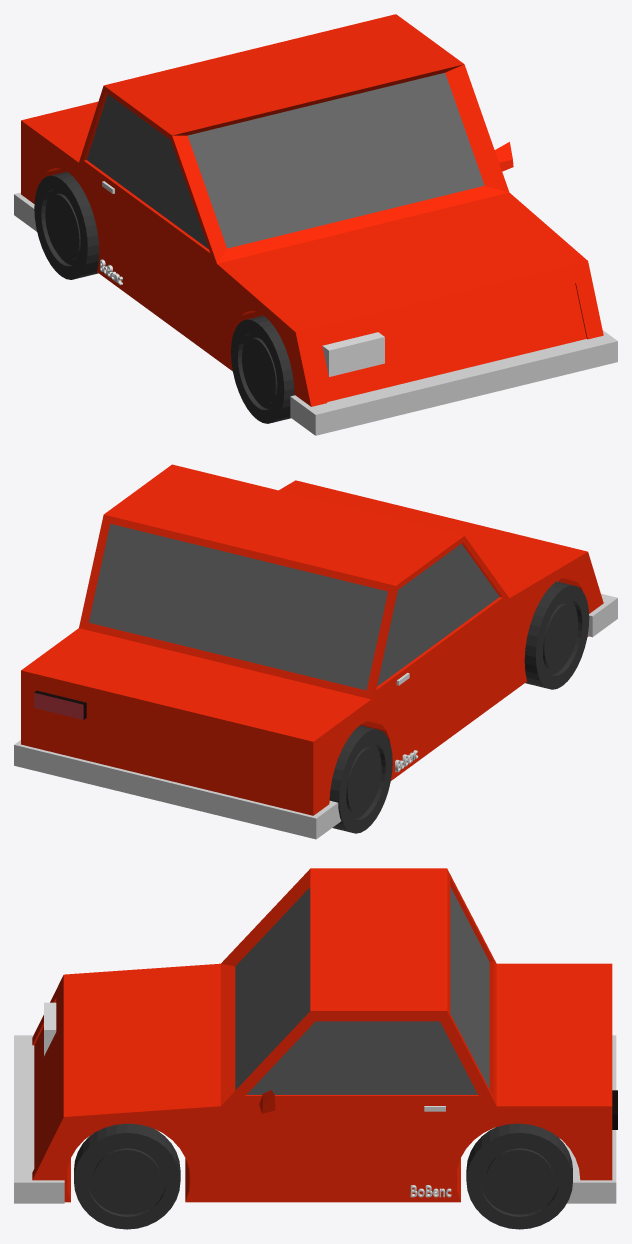
File: Car.glb
3 views of the same model, one above another, from view 1: azimuth 30°, elevation 25°; view 2: azimuth 150°, elevation 25°; view 3: azimuth 270°, elevation 25° (orthographic).
Parts seen in each view (by area): view 1: Car Body, Wheel, Front Bumper, Lights; view 2: Car Body, Wheel, Rear Bumper, Brake Light, Front Bumper; view 3: Car Body, Wheel, Front Bumper, Rear Bumper, Lights.
Part boxes in pixels (box(x1,y1,x2,y2)): Car Body: box(21, 14, 603, 406); Wheel: box(34, 171, 294, 423); Front Bumper: box(290, 330, 617, 435); Lights: box(322, 332, 384, 376); Car Body: box(21, 464, 603, 815); Wheel: box(329, 581, 589, 833); Rear Bumper: box(14, 740, 340, 839); Brake Light: box(34, 690, 86, 719); Front Bumper: box(587, 593, 617, 637); Car Body: box(32, 868, 612, 1202); Wheel: box(74, 1123, 572, 1229); Front Bumper: box(14, 1035, 64, 1203); Rear Bumper: box(565, 1035, 616, 1203); Lights: box(44, 1002, 56, 1055).
Size of what is drawn, in the model's own units: 2.23 by 1.41 by 3.58.
